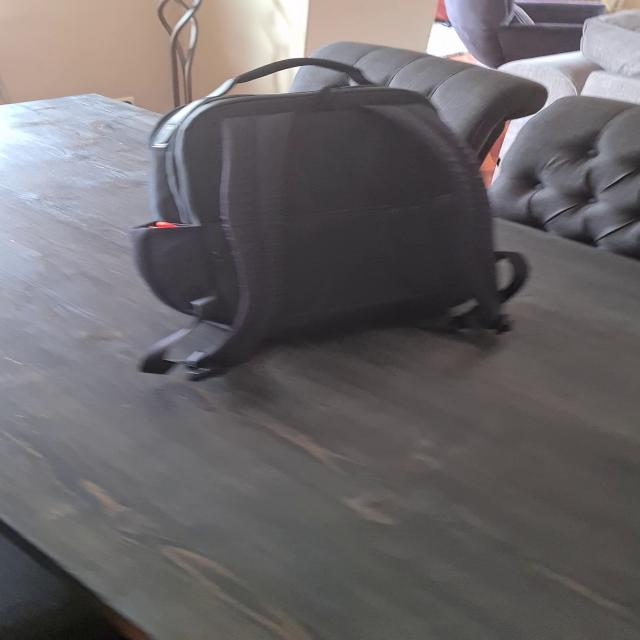backpack: (133, 60, 514, 384)
